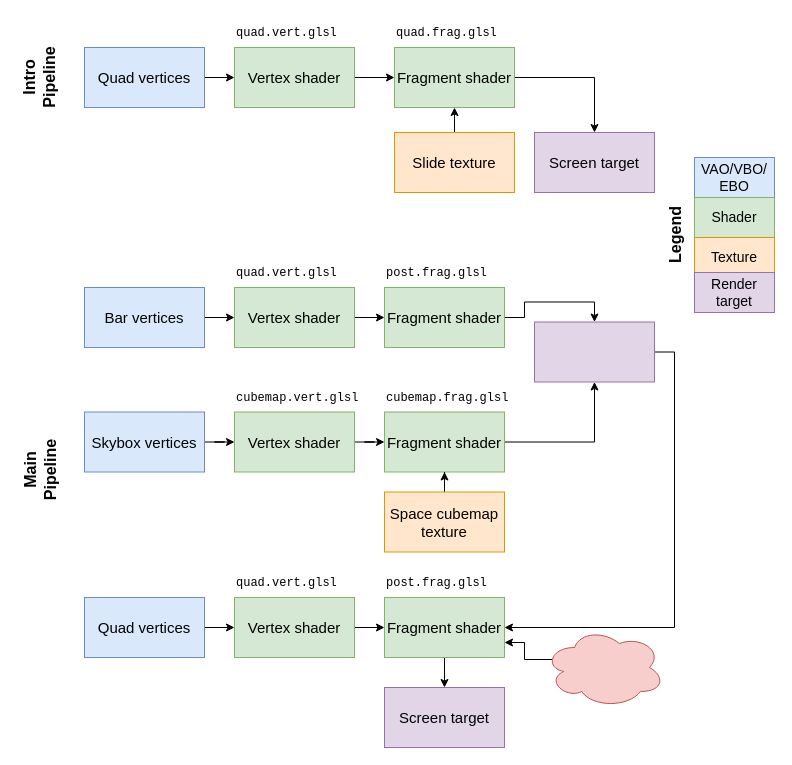
The diagram is 792 pixels wide and 765 high, and some of its shapes have lost their labels. Here are the shapes that lost their labels. From the top down, the centre of each, then its label:
At (594,351): "Framebuffer target".
At (604,667): "Spectral energy ratio".
